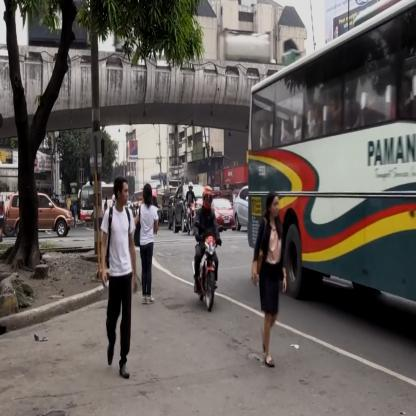person: (100, 176, 138, 380), (254, 192, 284, 370), (193, 185, 224, 295), (134, 182, 158, 304), (185, 181, 196, 207)
